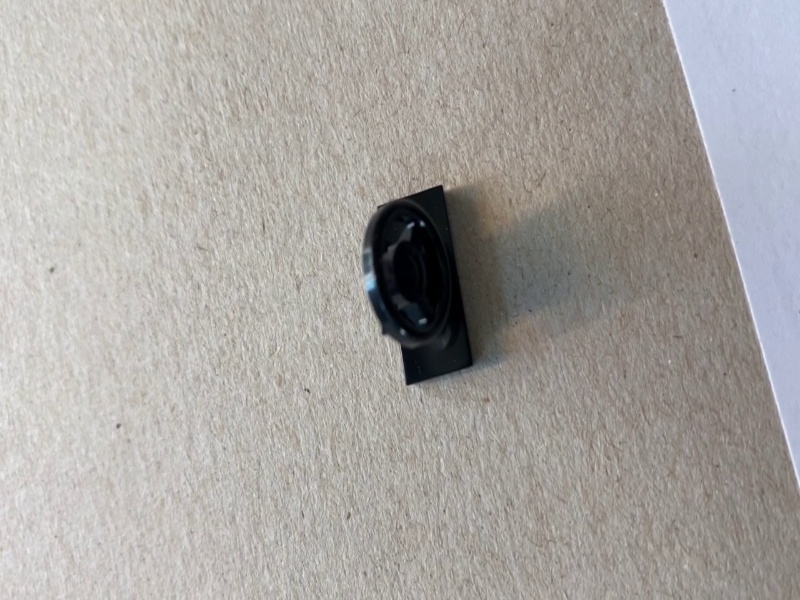steering wheel: (360, 184, 477, 386)
